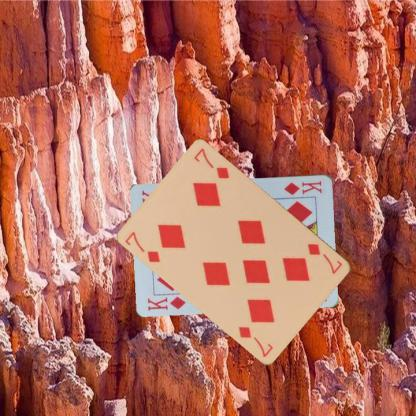7d: (305, 240, 344, 276), (122, 229, 162, 264)
Kd: (282, 178, 324, 196), (145, 294, 187, 312)
